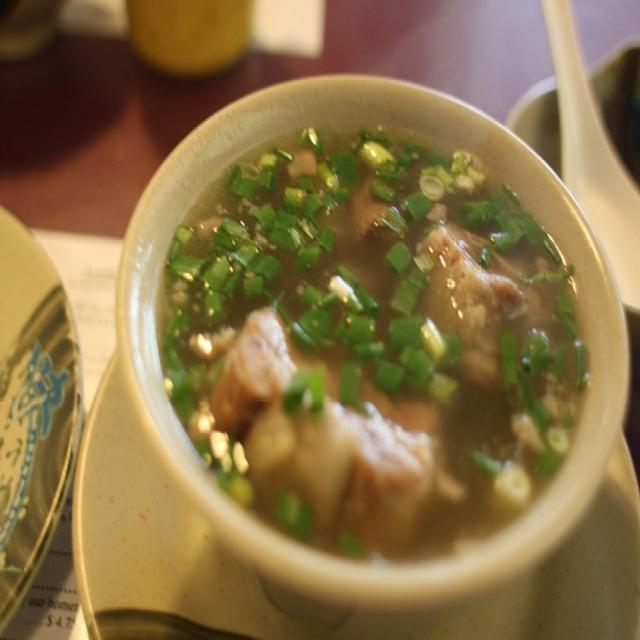汤锅炖物: (114, 80, 608, 580)
